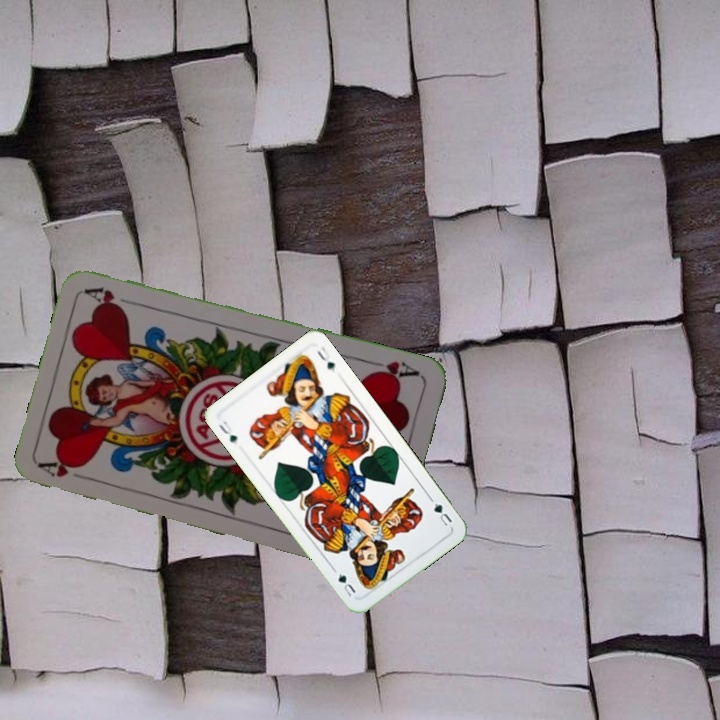GU: (214, 417, 241, 448), (429, 499, 455, 529)
HA: (365, 356, 423, 384), (37, 457, 95, 484)
